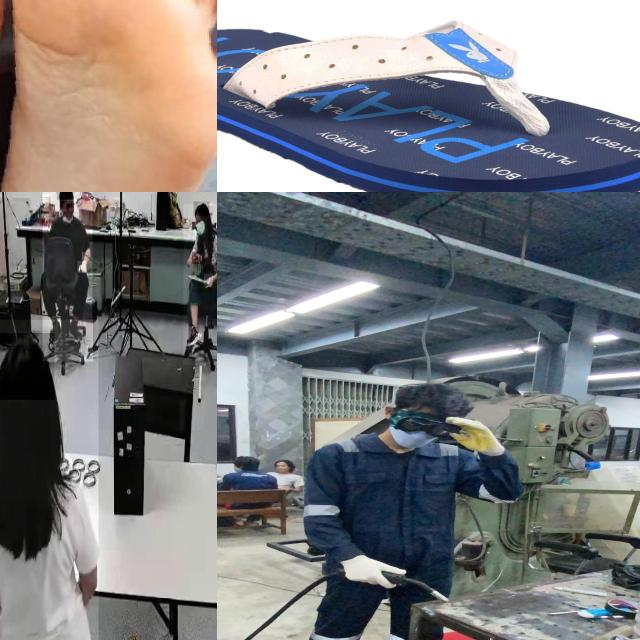Barefoots: (0, 0, 217, 192)
Sandals: (217, 18, 640, 192)
face_mask: (389, 412, 456, 450), (193, 218, 208, 244)
face_nomask: (60, 200, 74, 218), (274, 464, 288, 472)
glasses: (382, 406, 465, 439)
hand_glove: (339, 556, 412, 589), (438, 414, 500, 452)
hand_noglove: (204, 274, 214, 288), (192, 251, 202, 265), (77, 261, 87, 274)
head_nohelmet: (0, 333, 55, 400), (235, 456, 262, 466), (194, 202, 210, 216), (275, 458, 295, 465), (57, 192, 74, 200)
person: (281, 381, 508, 640), (0, 319, 99, 640), (42, 192, 93, 361), (183, 204, 217, 366)
shoes: (46, 315, 64, 344), (68, 317, 86, 345), (185, 320, 203, 347)
